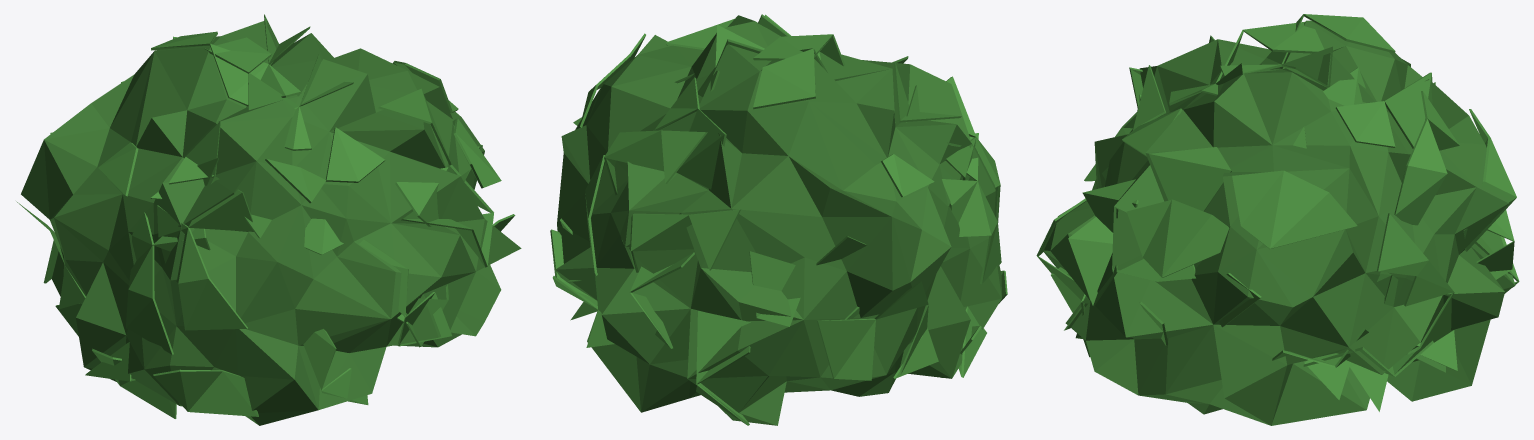
The model's file is Bush 1.fbx.
3 views of the same model, side by side, from view 1: azimuth 30°, elevation 25°; view 2: azimuth 150°, elevation 25°; view 3: azimuth 270°, elevation 25° (orthographic). The views are drawn at different scales.
Visible parts, largest first — view 1: Bush 1; view 2: Bush 1; view 3: Bush 1.
Part boxes in pixels (x1=…): Bush 1: x1=16, y1=14, x2=521, y2=425; Bush 1: x1=550, y1=14, x2=1007, y2=425; Bush 1: x1=1036, y1=14, x2=1519, y2=425.
Bounding box in the file's own units: 5.84 × 4.54 × 5.88.
